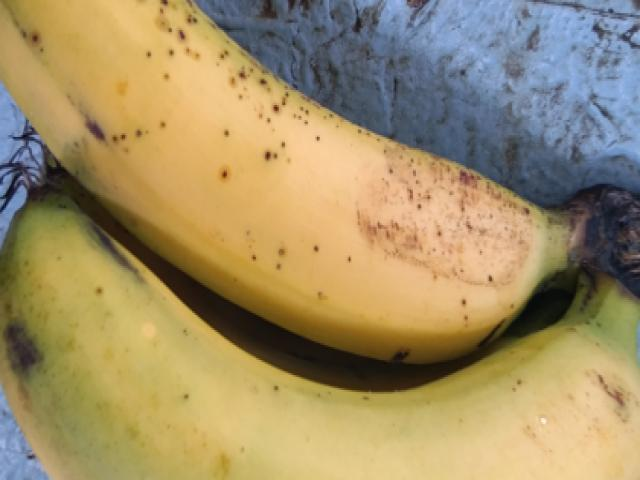freshripe: (27, 262, 639, 479)
ripe: (0, 0, 545, 367)
